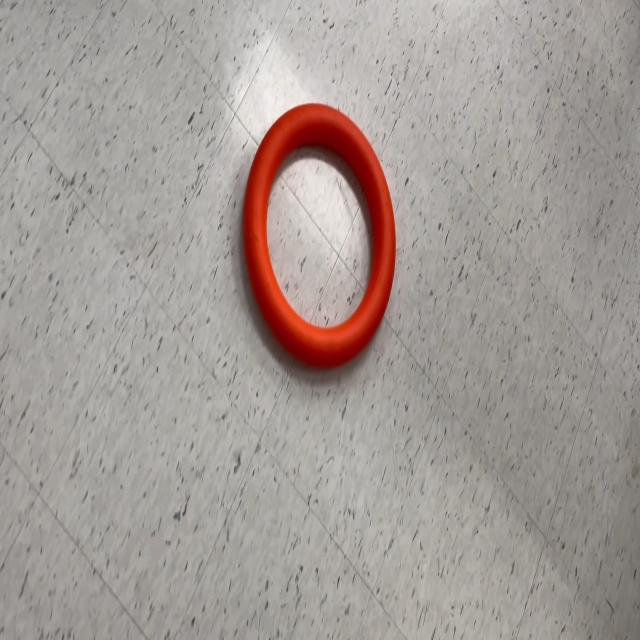note: (241, 102, 397, 371)
